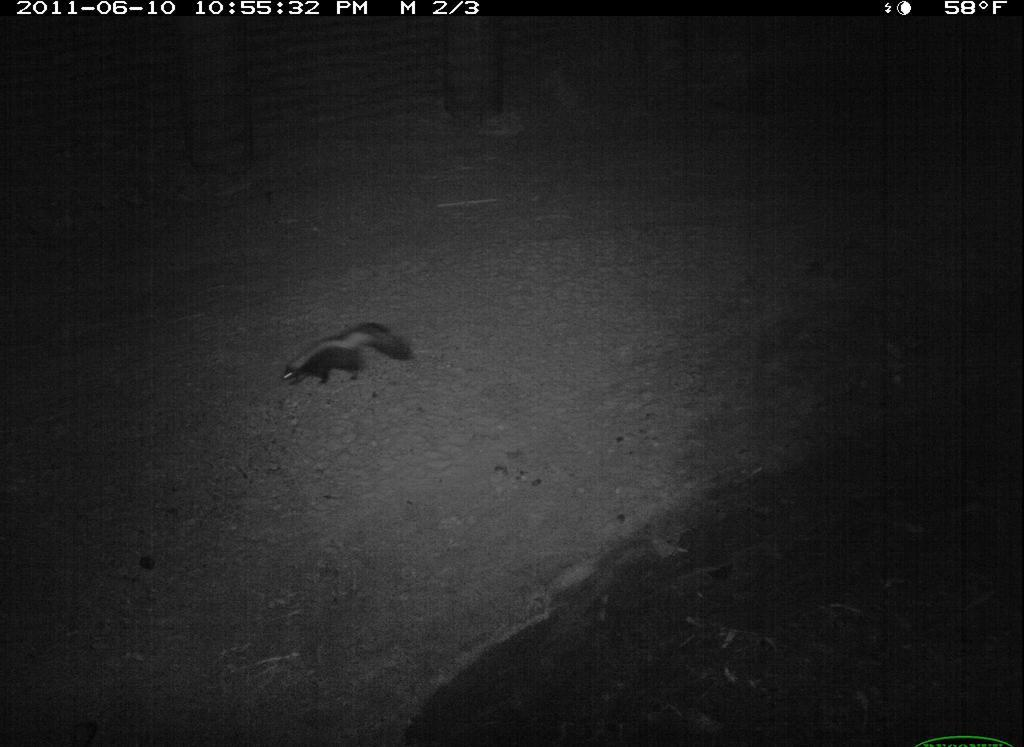skunk: (277, 315, 420, 392)
